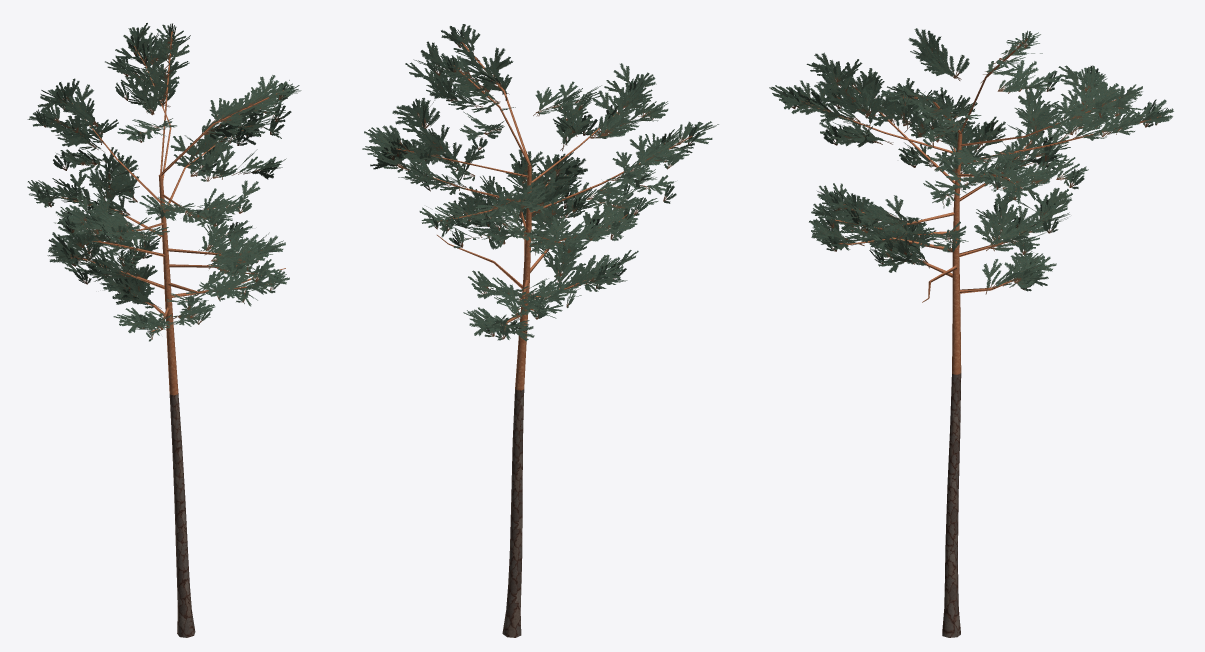
File: pine_b_LOD1.fbx
3 views of the same model, side by side, from view 1: azimuth 30°, elevation 25°; view 2: azimuth 150°, elevation 25°; view 3: azimuth 270°, elevation 25° (orthographic). The views are drawn at different scales.
Visible parts, largest first — view 1: Pine_B_LOD1_Foliage, Pine_B_LOD1_Bark; view 2: Pine_B_LOD1_Foliage, Pine_B_LOD1_Bark; view 3: Pine_B_LOD1_Foliage, Pine_B_LOD1_Bark.
Boxes of the visible parts, box(x1,y1,x2,y2) form: Pine_B_LOD1_Foliage: box(27, 23, 301, 341); Pine_B_LOD1_Bark: box(62, 31, 285, 637); Pine_B_LOD1_Foliage: box(362, 24, 718, 341); Pine_B_LOD1_Bark: box(396, 42, 692, 637); Pine_B_LOD1_Foliage: box(769, 28, 1173, 294); Pine_B_LOD1_Bark: box(812, 38, 1160, 637).
Bounding box in the file's own units: 8.37 × 17.8 × 11.19.
Materials: 2 (2 with a texture image).
